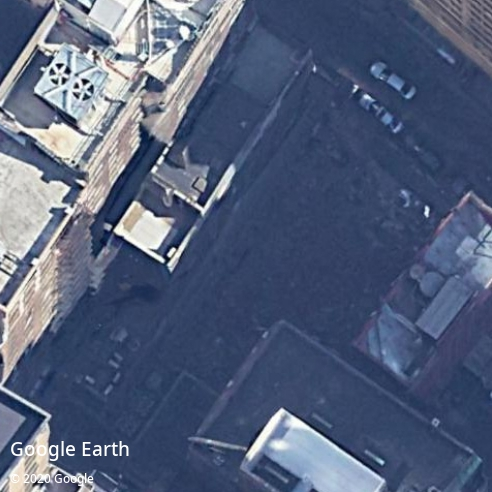Vent: (71, 78, 94, 101), (50, 63, 72, 87)
